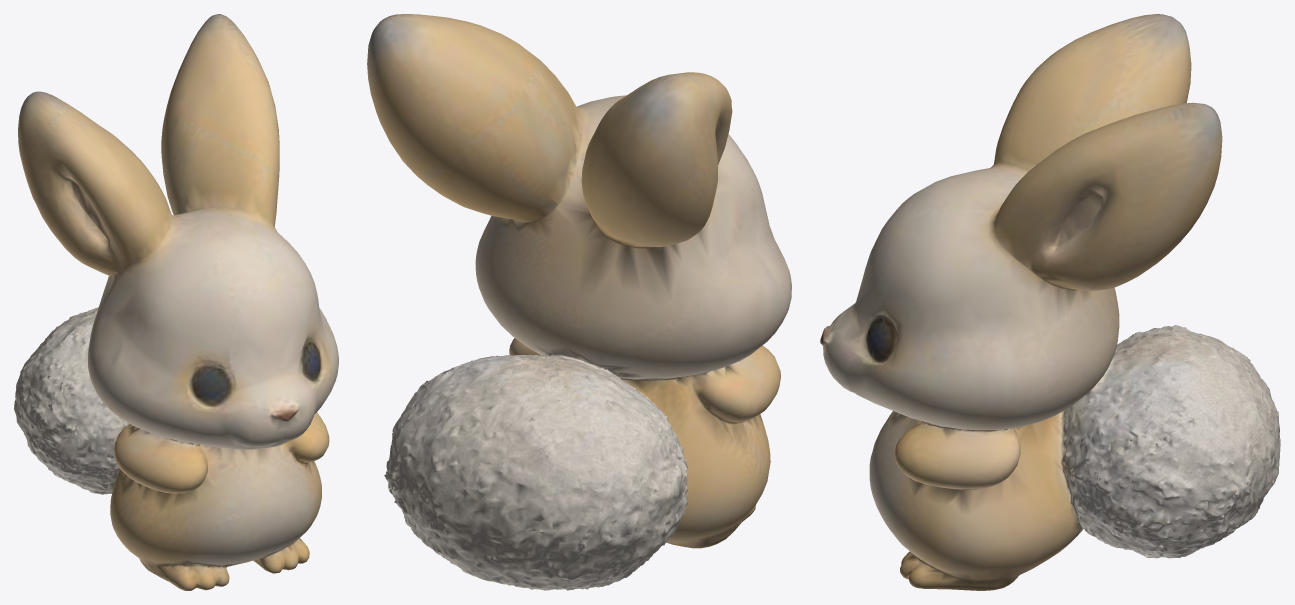
Rendered from pustel.glb.
The picture shows the model from 3 angles, left to right: view 1: azimuth 30°, elevation 25°; view 2: azimuth 150°, elevation 25°; view 3: azimuth 270°, elevation 25°; orthographic projection. The views are drawn at different scales.
Bounding box in the file's own units: 0.5742 × 1 × 0.824.
Materials: 1 (1 with a texture image).
